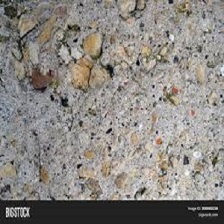sandy_soil: (6, 19, 216, 198)
